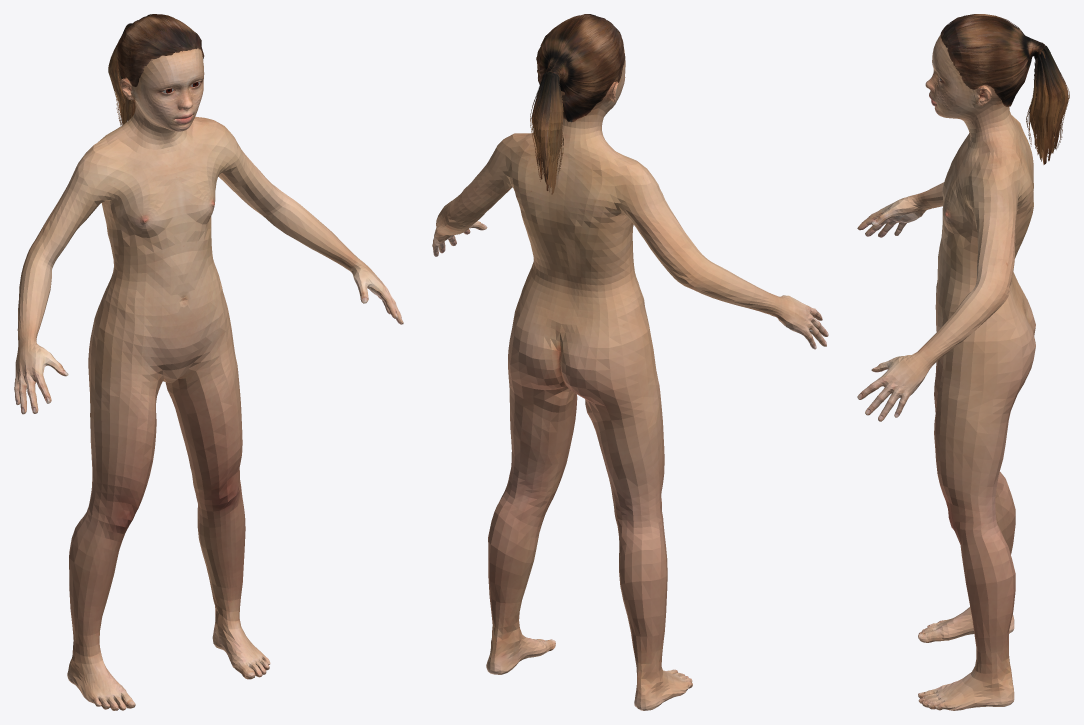
The model's file is nina.obj.
3 views of the same model, side by side, from view 1: azimuth 30°, elevation 25°; view 2: azimuth 150°, elevation 25°; view 3: azimuth 270°, elevation 25° (orthographic).
Visible parts, largest first — view 1: base.obj, ponytail01.obj; view 2: base.obj, ponytail01.obj; view 3: base.obj, ponytail01.obj.
Part boxes in pixels (<box>): base.obj: <box>14,48,403,710</box>; ponytail01.obj: <box>108,14,204,125</box>; base.obj: <box>432,49,828,710</box>; ponytail01.obj: <box>530,14,625,194</box>; base.obj: <box>857,35,1035,710</box>; ponytail01.obj: <box>940,14,1069,164</box>.
Bounding box in the file's own units: 0.726 × 1.2 × 0.3509.
Materials: 3 (3 with a texture image).
